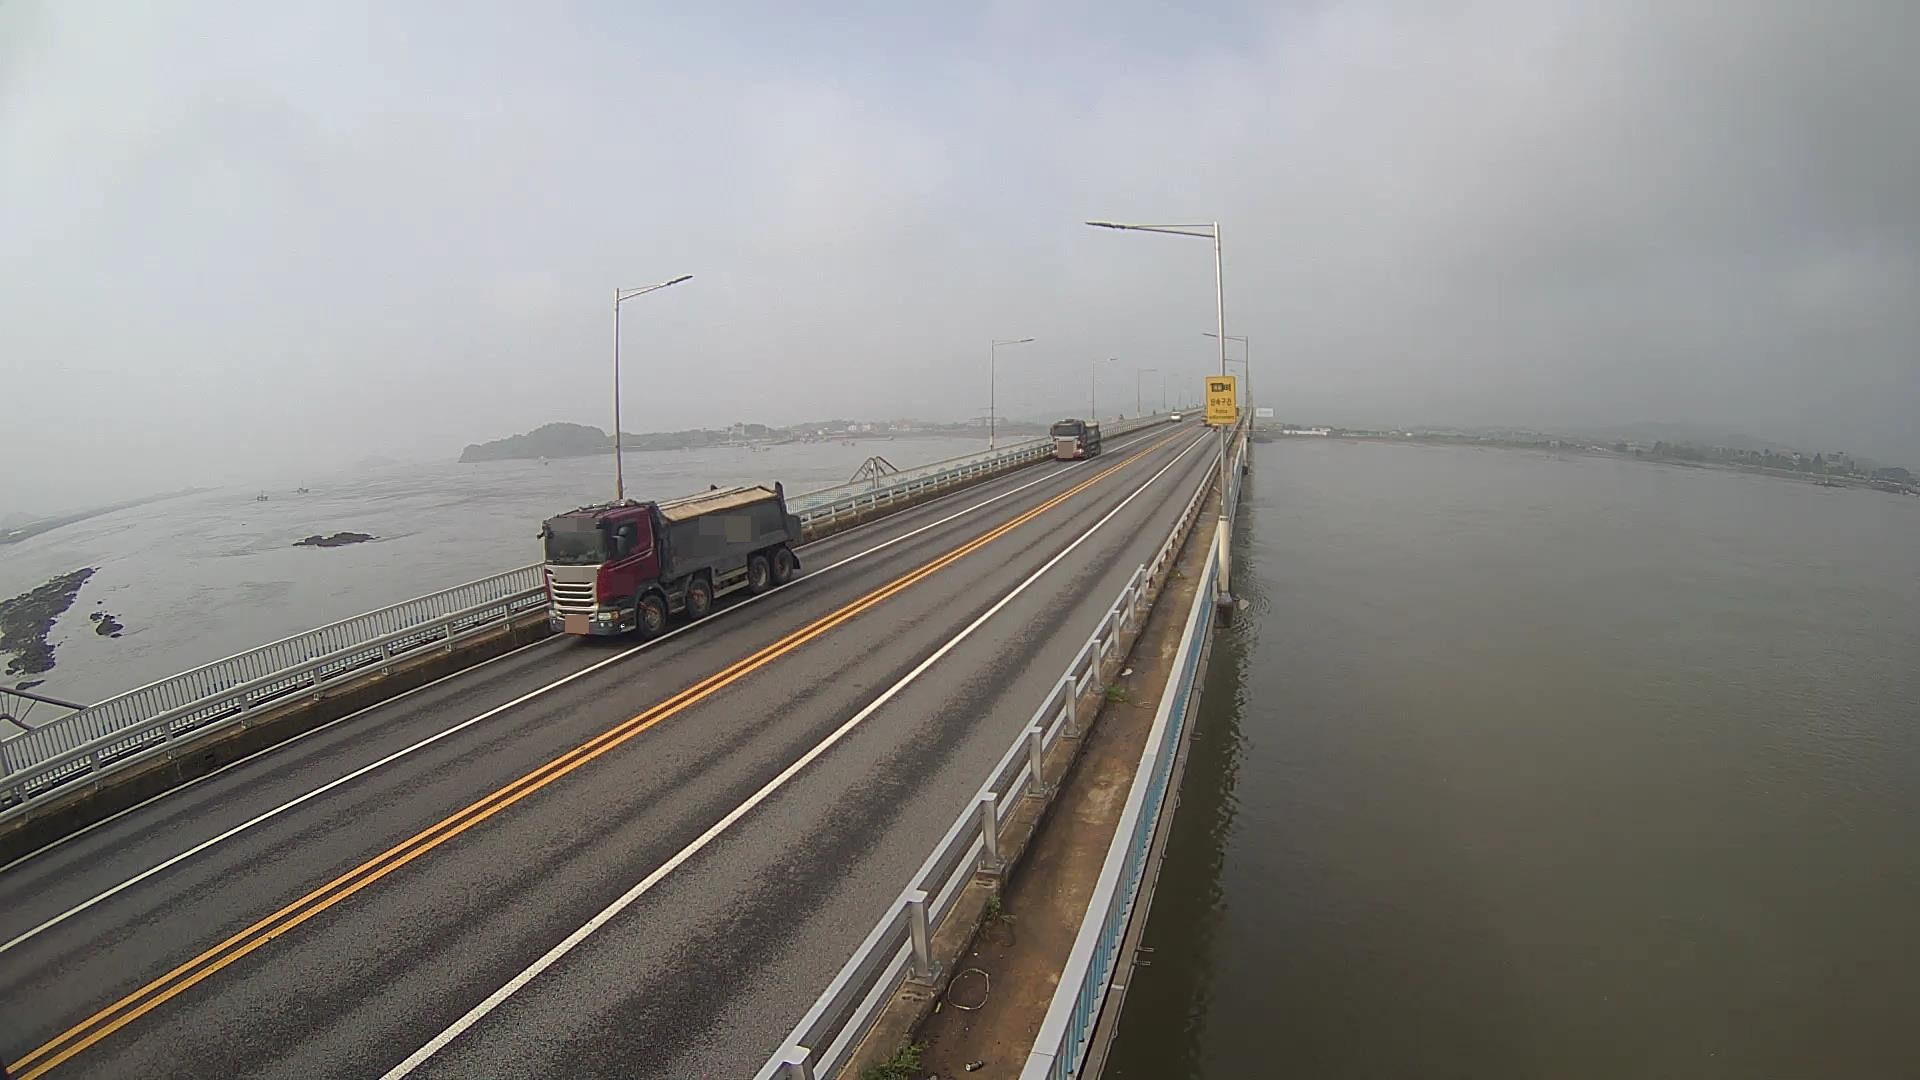정상차량: (537, 480, 803, 641)
